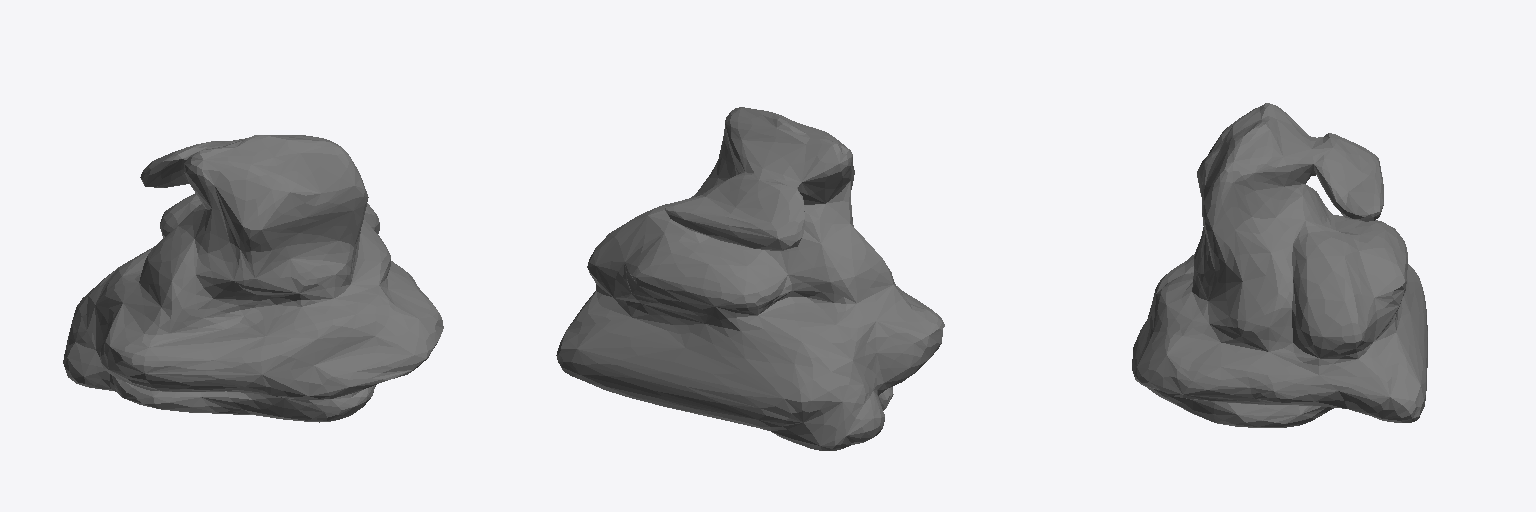
Rendered from clouds02.obj.
3 renders of one model, left to right at view 1: azimuth 30°, elevation 25°; view 2: azimuth 150°, elevation 25°; view 3: azimuth 270°, elevation 25°, orthographic.
Size of the model in its own units: 19.67 by 15.53 by 16.13.